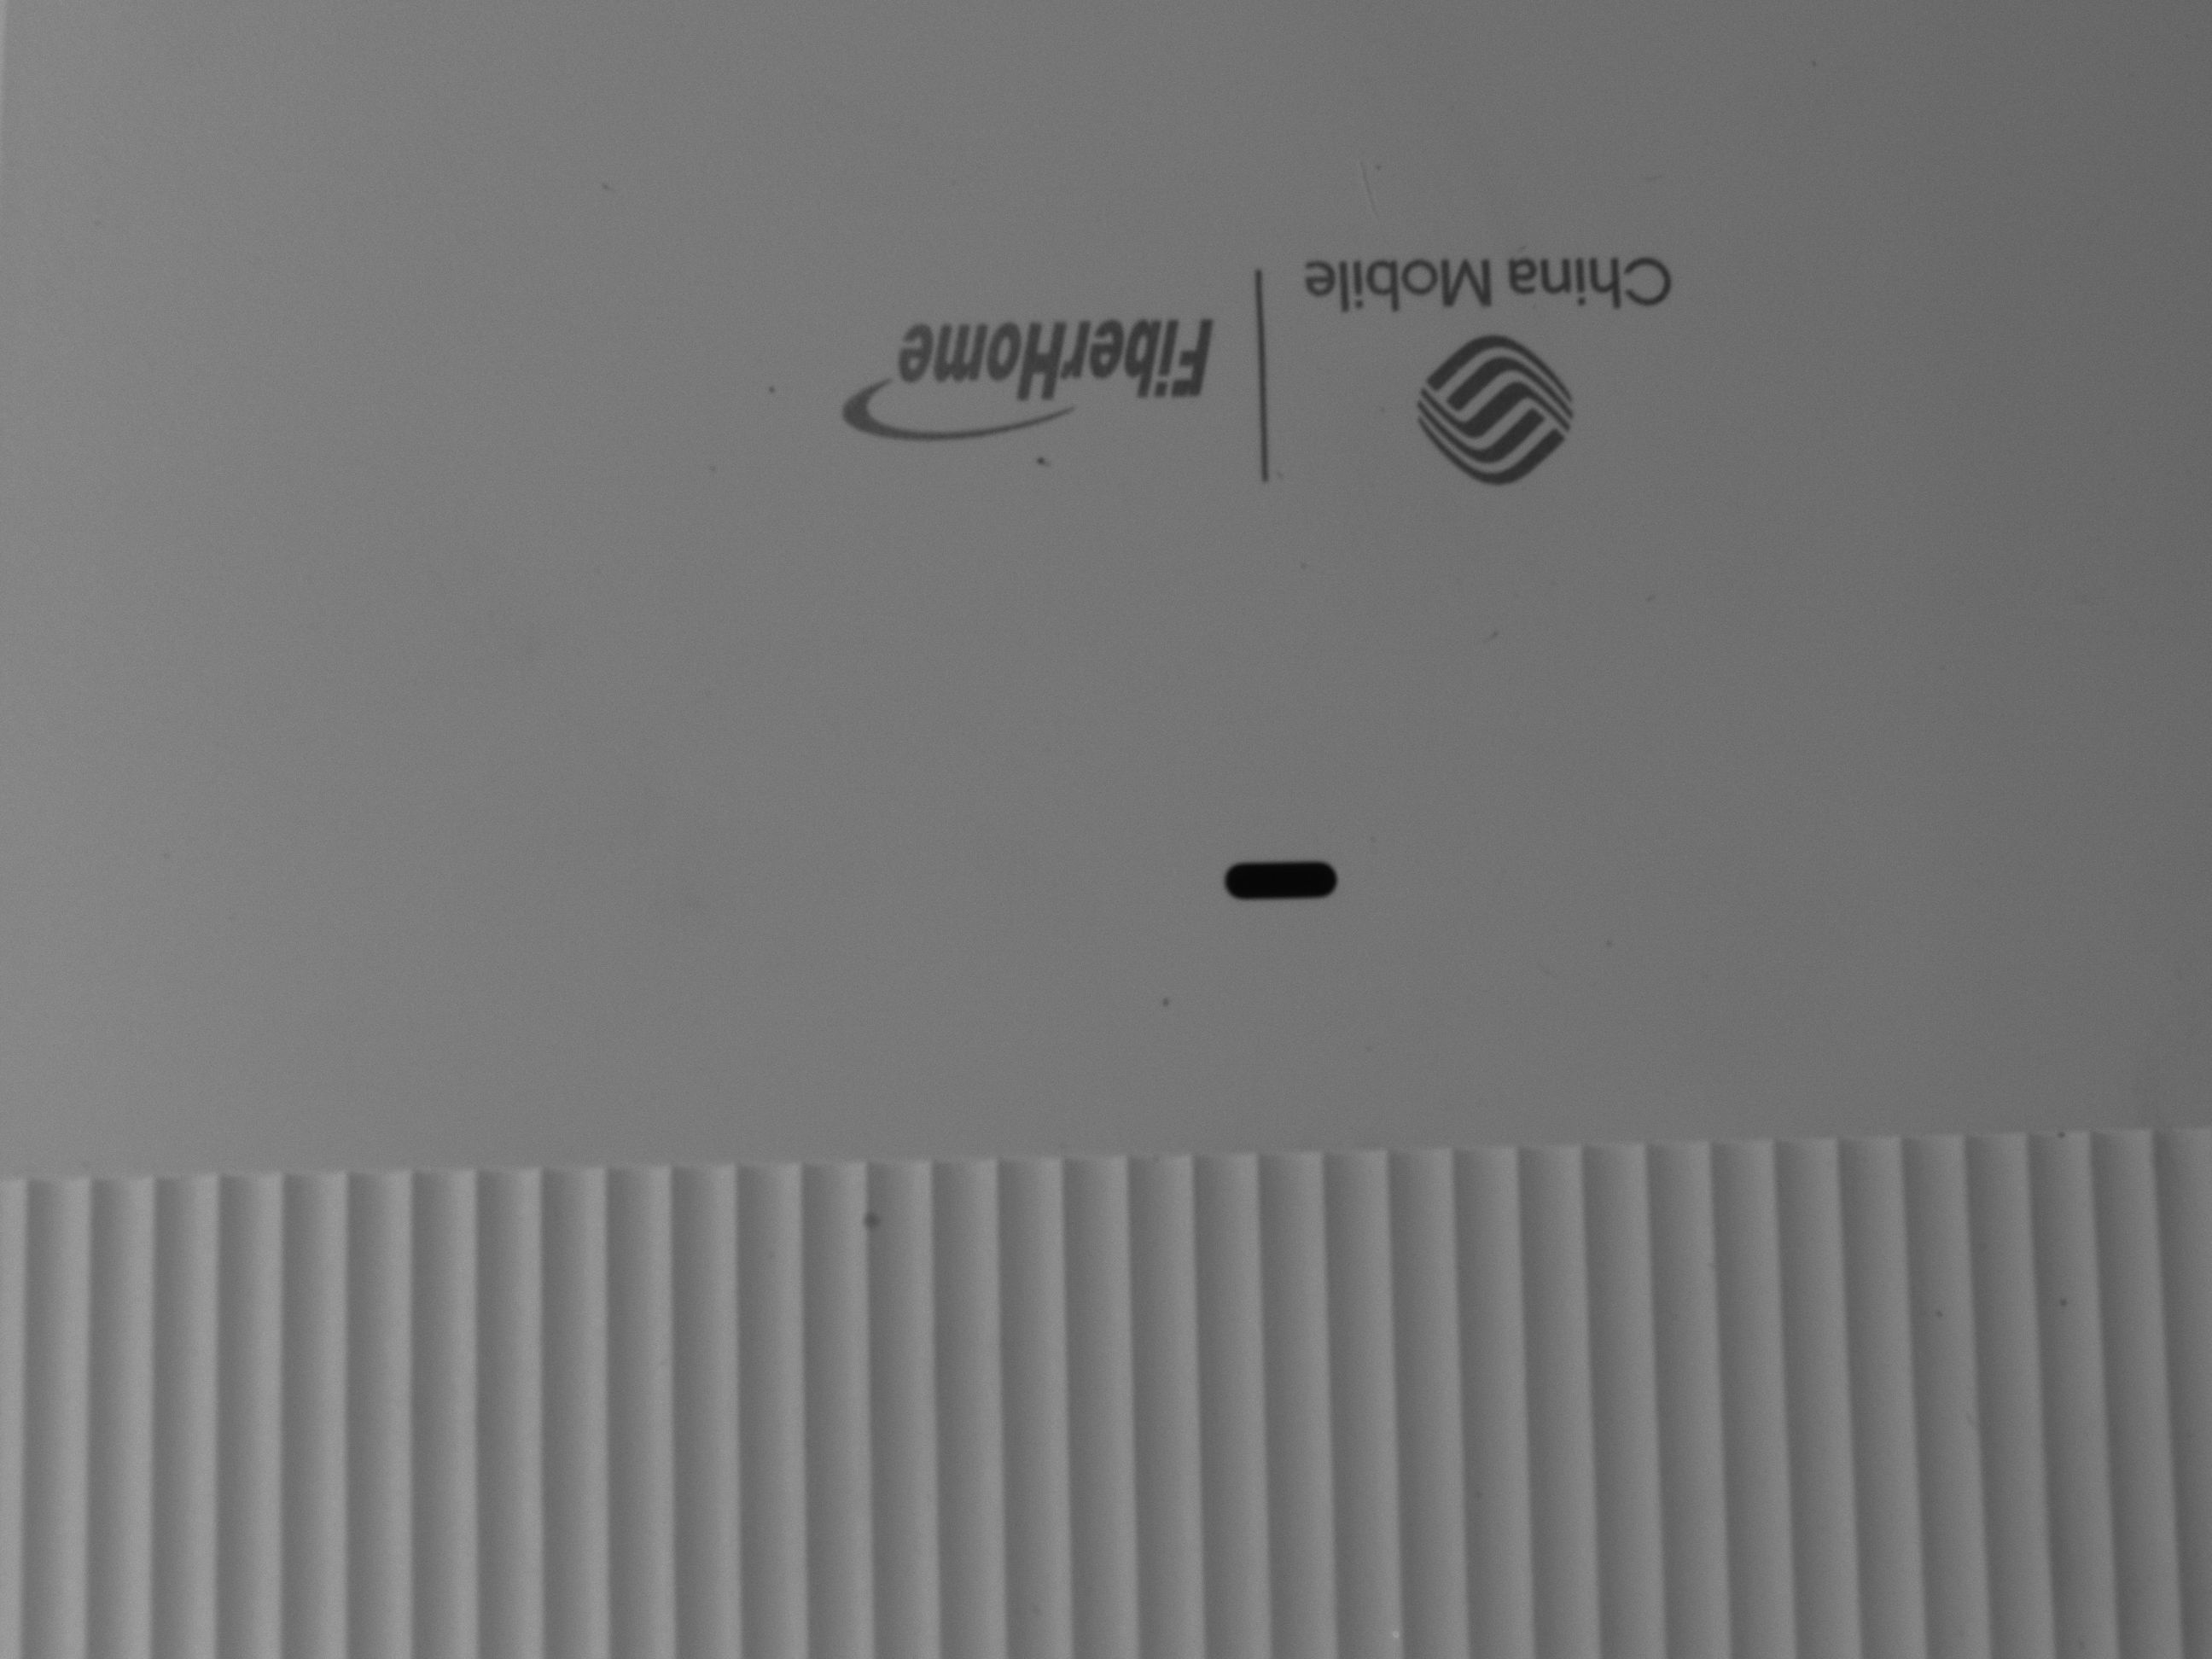BX_HG6371FMobileFiberhome: (798, 225, 1693, 500)
